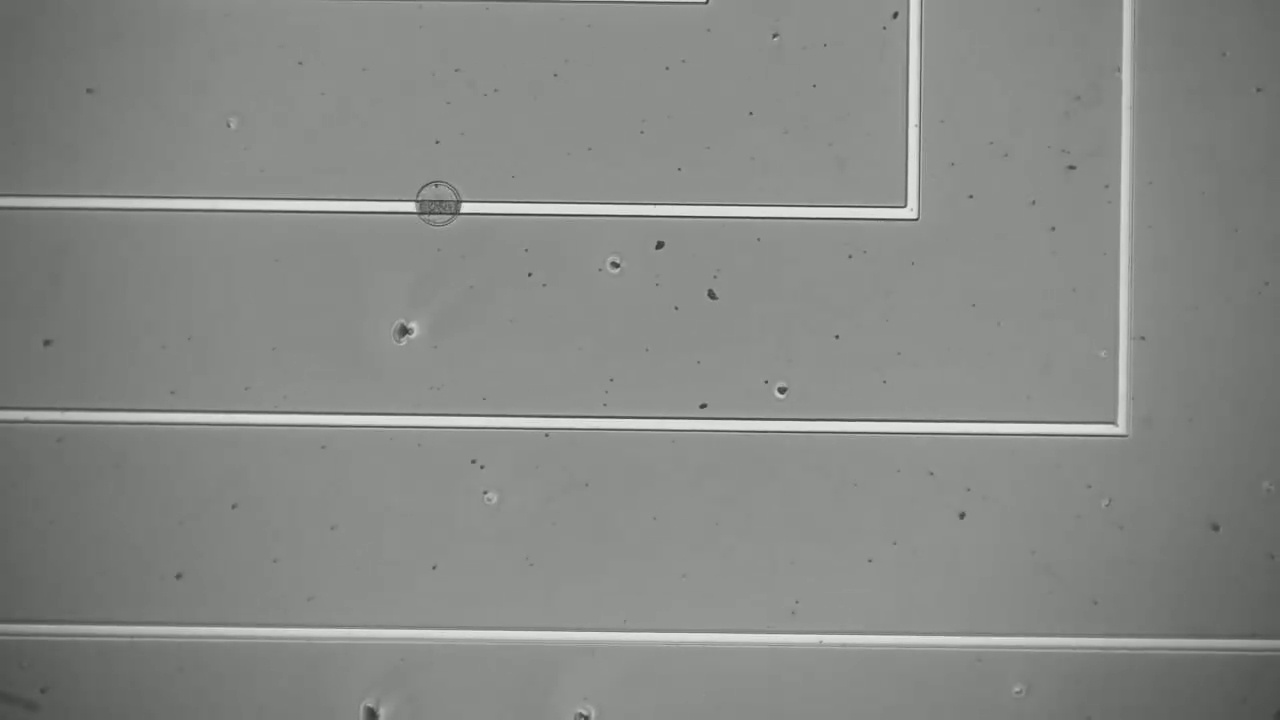gray_line: (398, 192, 478, 221)
